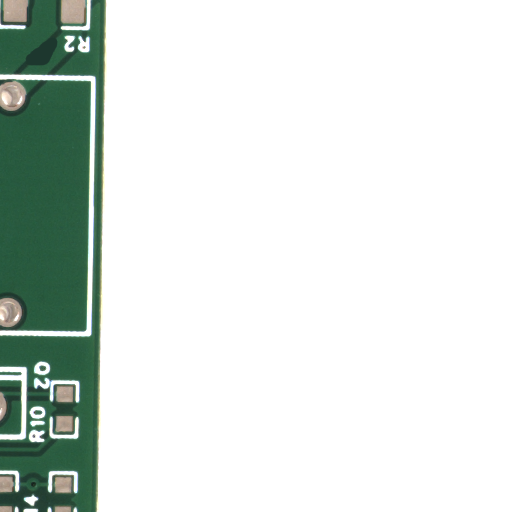Mouse_bite: (42, 51, 73, 81)
